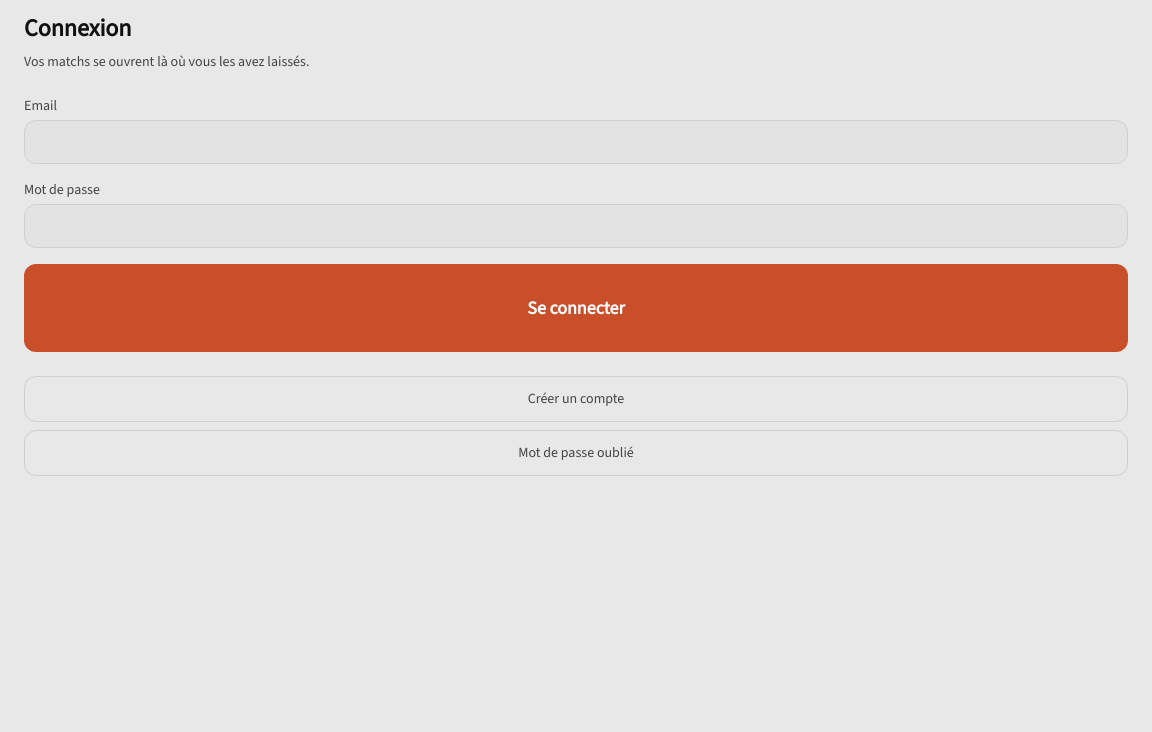
Test case: écran d'authentification › traduit une erreur d'identifiants
In the field labelled "Email": coordinates (576, 142) [24,120,1128,164], type "coach@gymnase.fr"
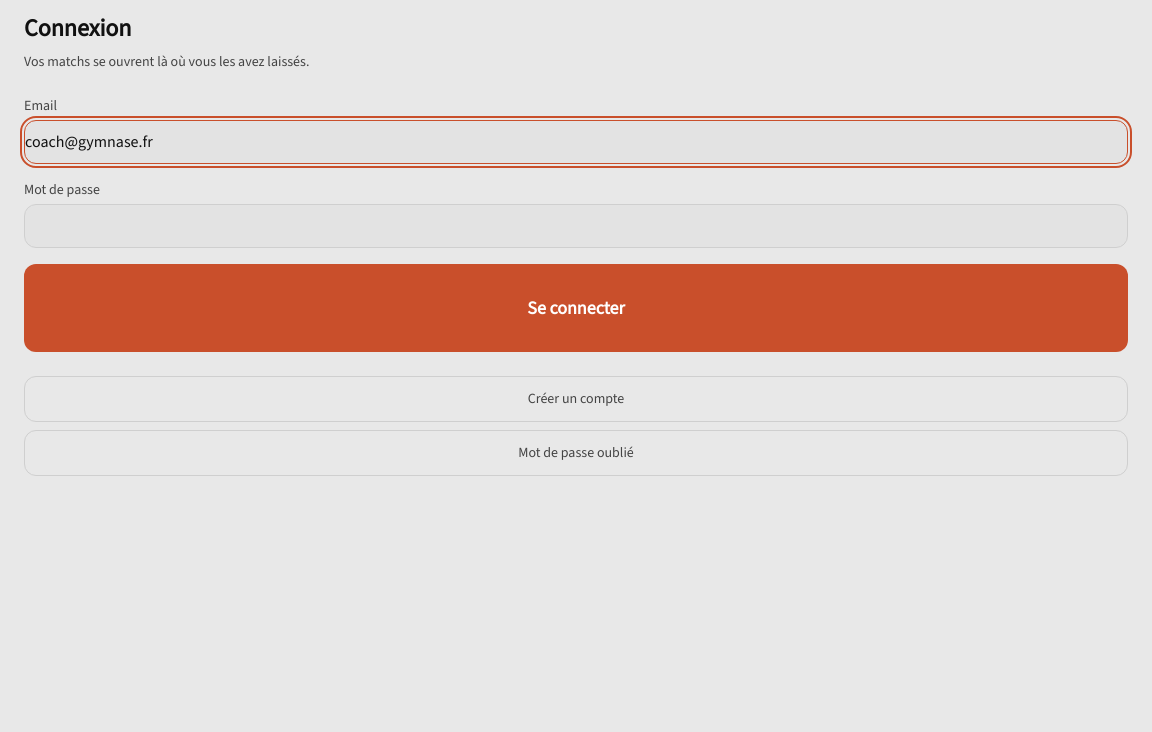
In the password field labelled "Mot de passe": coordinates (576, 226) [24,204,1128,248], type "faux"
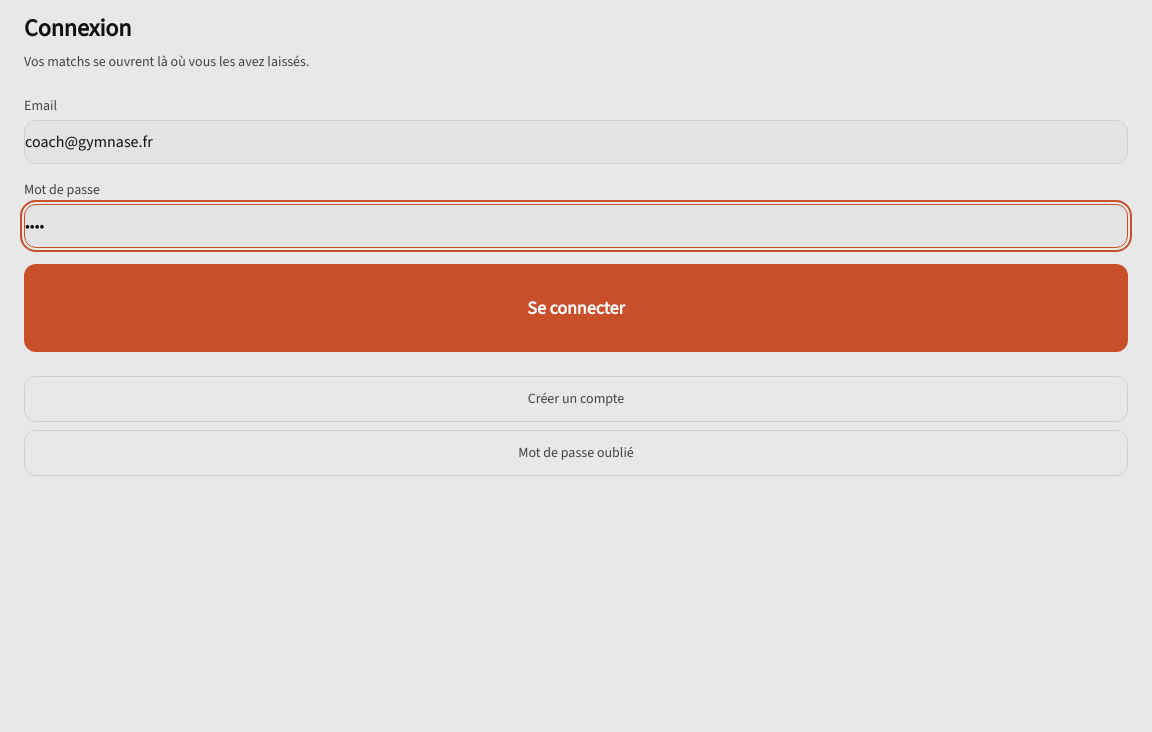
Click the button "Se connecter": coordinates (576, 308) [24,264,1128,352]
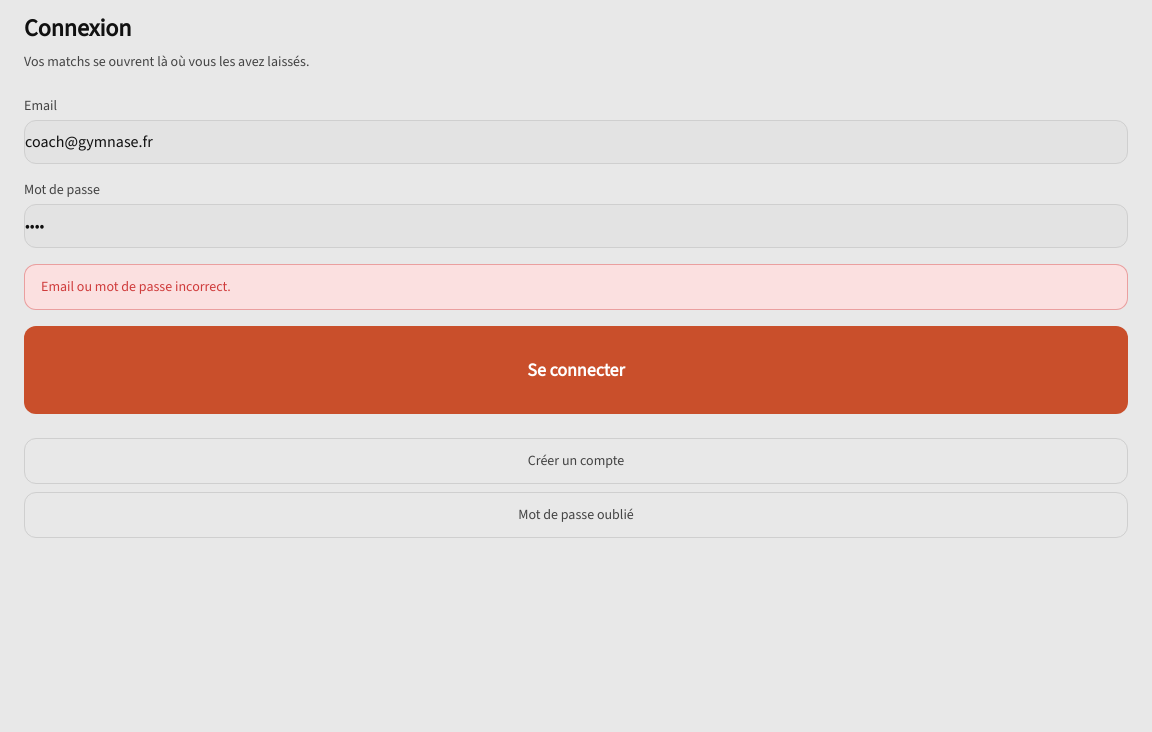
Result: the message reads "Email ou mot de passe incorrect." at [41,277,231,296]
